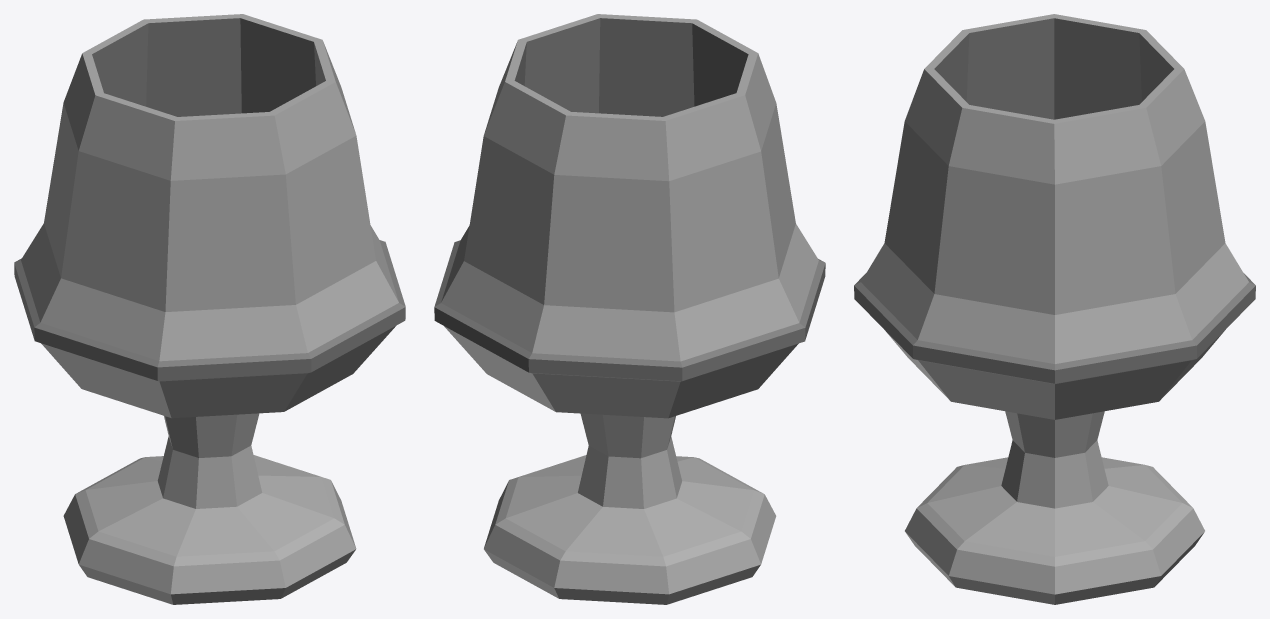
Rendered from IronGoblet.fbx.
The picture shows the model from 3 angles, left to right: view 1: azimuth 30°, elevation 25°; view 2: azimuth 150°, elevation 25°; view 3: azimuth 270°, elevation 25°; orthographic projection.
Visible parts, largest first — view 1: IronGoblet; view 2: IronGoblet; view 3: IronGoblet.
Boxes of the visible parts, left/top/right/bottom form: IronGoblet: left=14, top=14, right=405, bottom=604; IronGoblet: left=434, top=14, right=825, bottom=604; IronGoblet: left=854, top=14, right=1255, bottom=604.
Bounding box in the file's own units: 18.35 × 23.98 × 18.35.
Materials: 1 (1 with a texture image).
